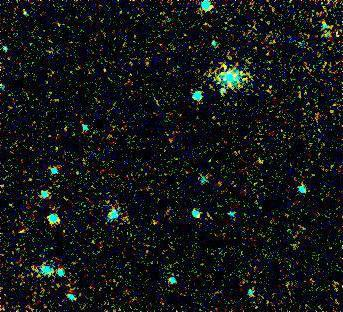star: (211, 50, 241, 80)
